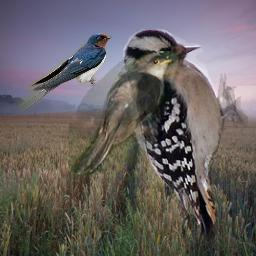Cuckoo: (69, 51, 178, 179)
Swallow: (18, 33, 113, 112)
Woodpecker: (123, 29, 248, 242)
